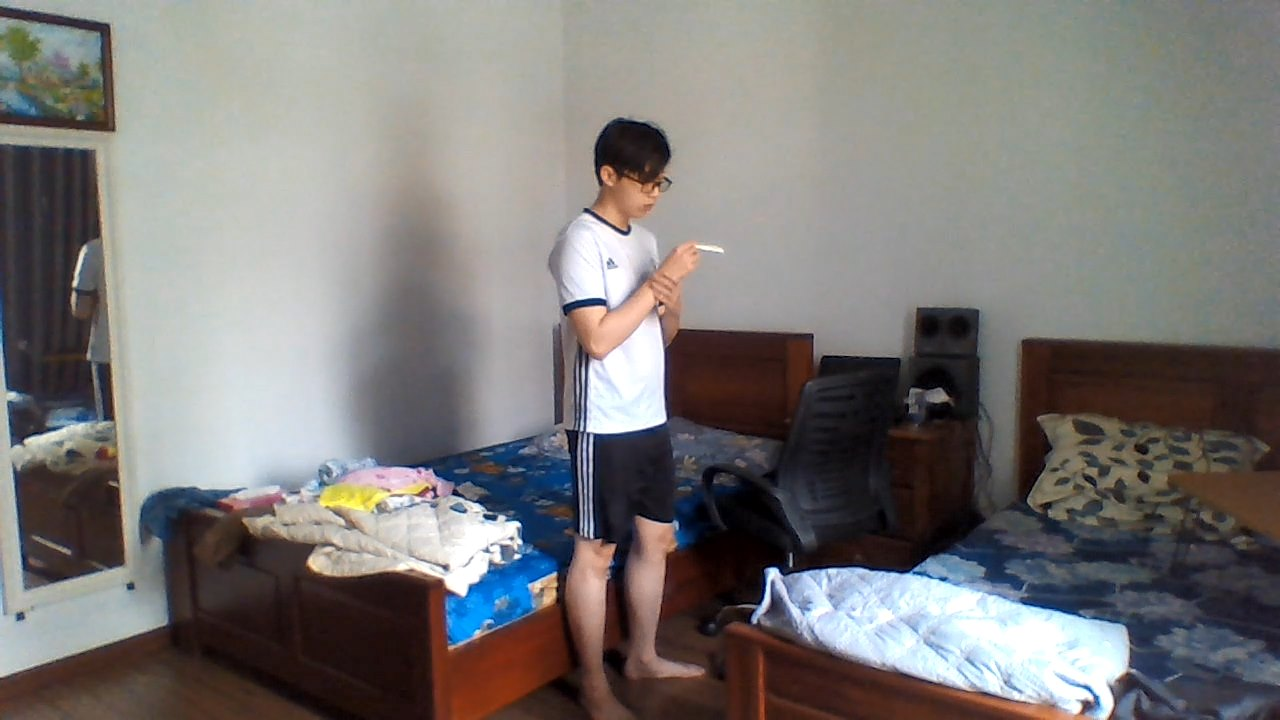cigarette: (687, 238, 732, 256)
person: (544, 105, 721, 720)
